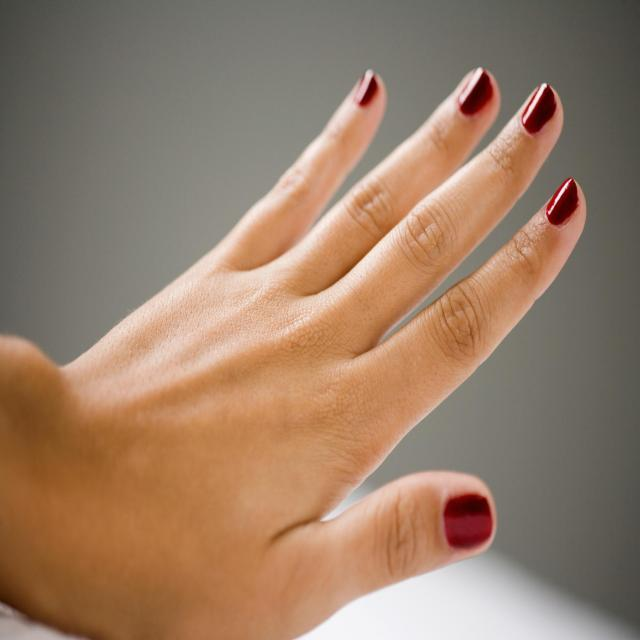Nail: (443, 491, 494, 550), (522, 83, 557, 135), (458, 67, 493, 117), (546, 178, 579, 227), (353, 71, 378, 108)
